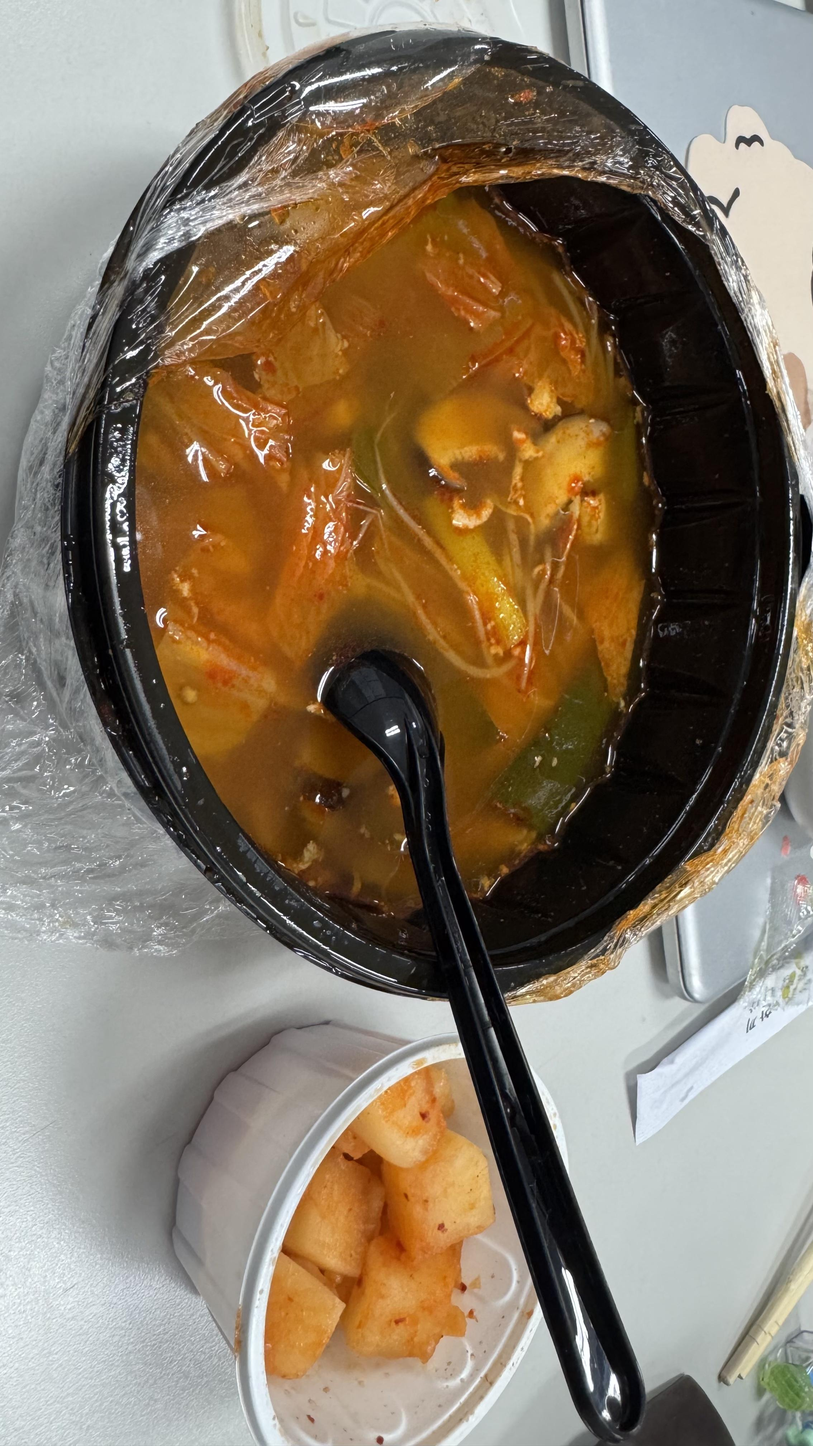Lunch Box: (0, 29, 813, 1001), (173, 1024, 541, 1446)
